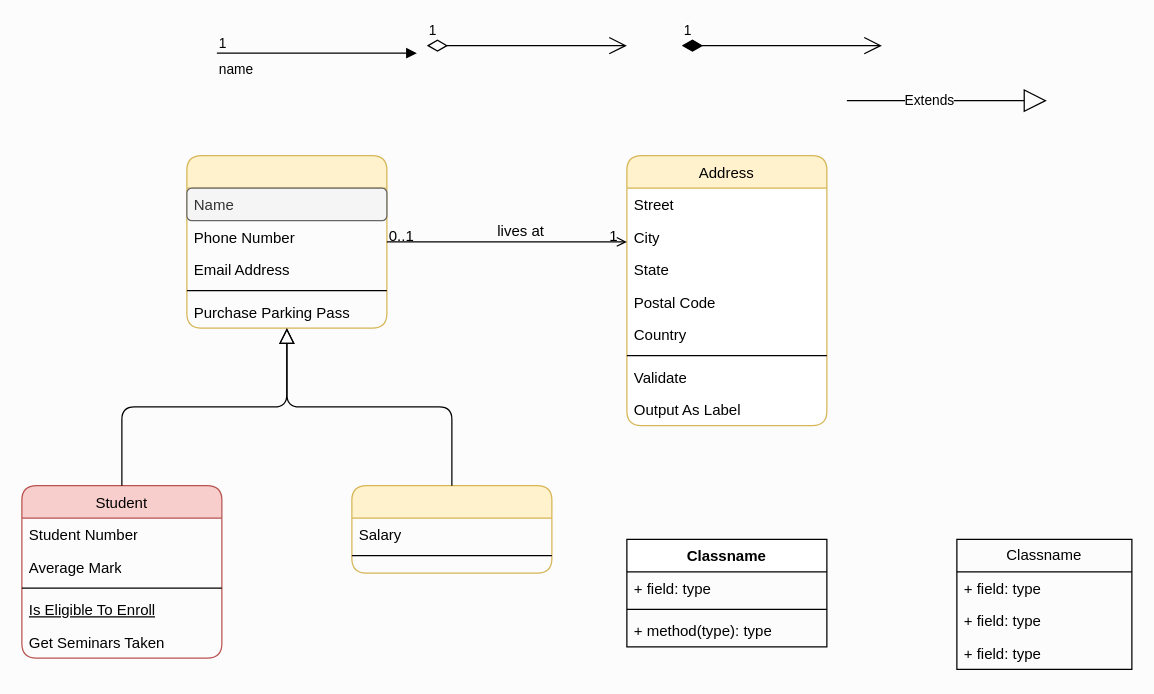
Image size: 1154x694. Some labels were removed from this diagram. The box of each missing label's shape, as (x1, y1, x2, y2) in pixels:
Person: (186, 154, 387, 328)
Professor: (351, 484, 552, 573)
